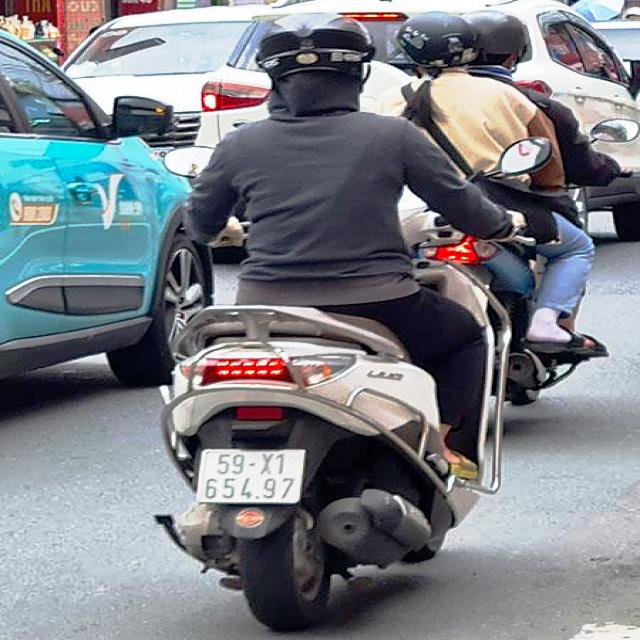license_plate: (196, 448, 302, 507)
